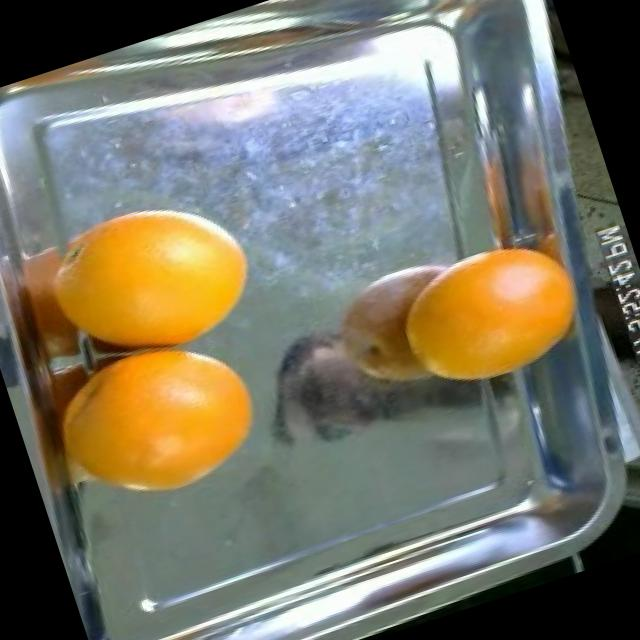Fruit: (362, 215, 610, 428), (45, 317, 288, 530), (80, 168, 282, 369)
